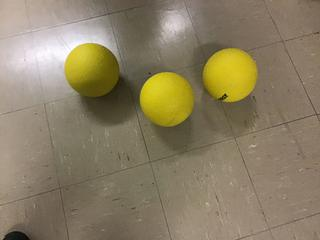power_cell: (134, 69, 197, 132), (64, 42, 124, 105), (198, 47, 258, 102)
